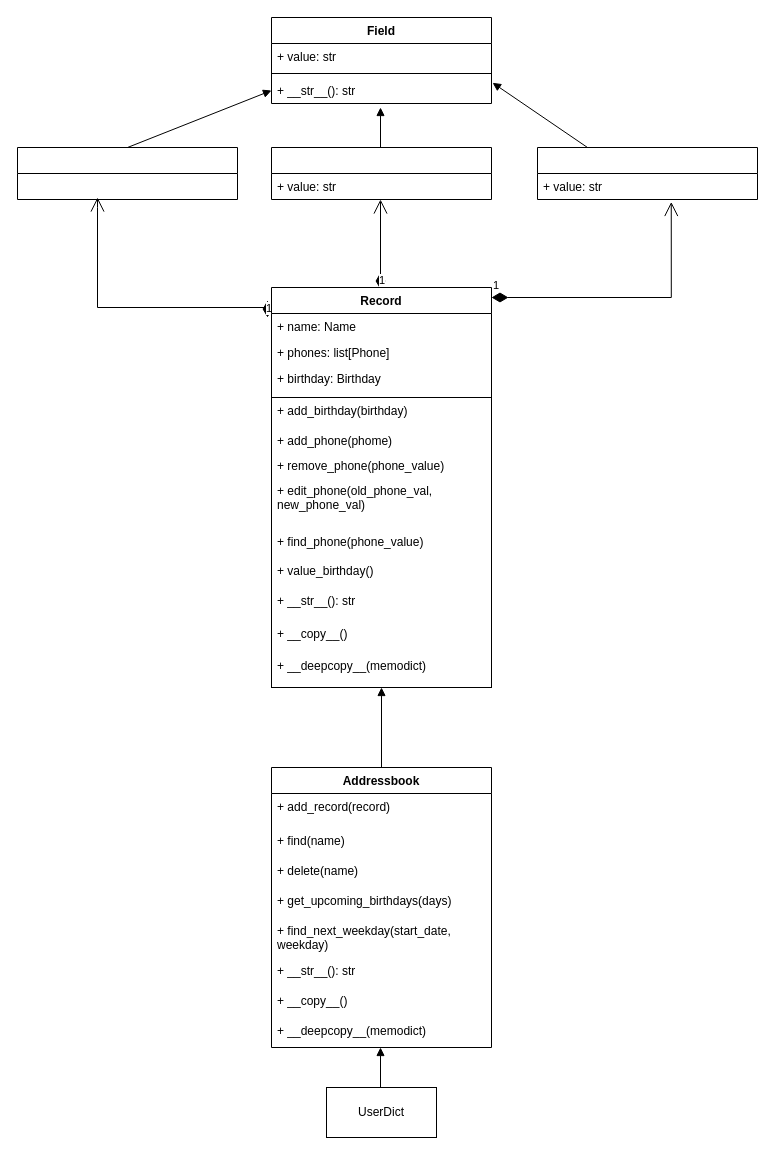
Image size: 775x1155. Some labels were removed from this diagram. Each missing label, with the box of its shape:
Birthday: (536, 146, 758, 200)
Name: (16, 146, 238, 200)
Phone: (270, 146, 492, 200)
